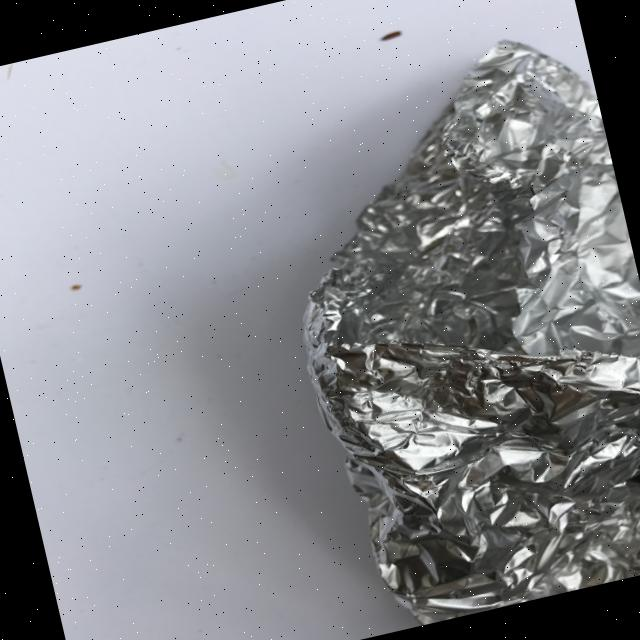metal: (243, 20, 640, 636)
